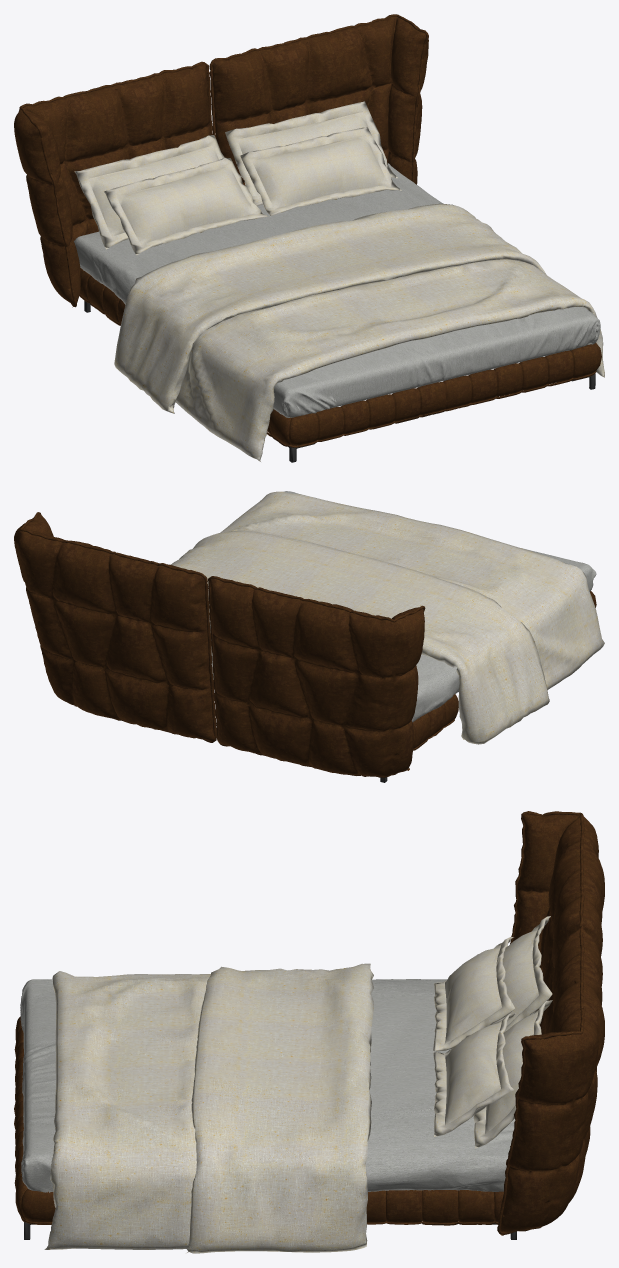
Rendered from bnb-italia-husk-bed.glb.
The picture shows the model from 3 angles, top to bottom: view 1: azimuth 30°, elevation 25°; view 2: azimuth 150°, elevation 25°; view 3: azimuth 270°, elevation 25°; orthographic projection. The views are drawn at different scales.
Parts seen in each view (by area): view 1: blanket, mattres, cover.002, cover.001, body, front pillows.001, front pillows.002, front pillows.003, front pillows.004, around cower, around cower.002, body.001; view 2: blanket, cover.002, cover.001, mattres, around cower.002, body.001, around cower; view 3: blanket, mattres, cover.001, cover.002, front pillows.002, front pillows.001, body.004, front pillows.003, front pillows.004, body, around cower.002, around cower.
Part boxes in pixels (x1,y1,x2,y2): blanket: (114,203,604,461); mattres: (74,163,600,417); cover.002: (14,64,211,304); cover.001: (212,16,428,185); body: (266,343,601,447); front pillows.001: (103,157,268,254); front pillows.002: (240,127,401,216); front pillows.003: (74,135,224,249); front pillows.004: (225,101,397,205); around cower: (19,61,212,307); around cower.002: (72,14,428,307); body.001: (79,268,125,325); blanket: (170,491,604,744); cover.002: (210,578,424,776); cover.001: (14,514,214,741); mattres: (209,491,596,722); around cower.002: (19,512,409,770); body.001: (412,694,458,750); around cower: (208,576,425,777); blanket: (44,963,373,1253); mattres: (20,979,534,1192); cover.001: (500,928,604,1232); cover.002: (512,814,604,1034); front pillows.002: (433,1013,515,1136); front pillows.001: (433,937,515,1051); body.004: (366,1190,503,1225); front pillows.003: (492,916,552,1031); front pillows.004: (473,1000,552,1148); body: (14,1016,55,1224); around cower.002: (497,925,584,1234); around cower: (500,811,584,1235).
Bounding box in the file's own units: 2.35 × 1.08 × 2.5.
Materials: 4 (3 with a texture image).
